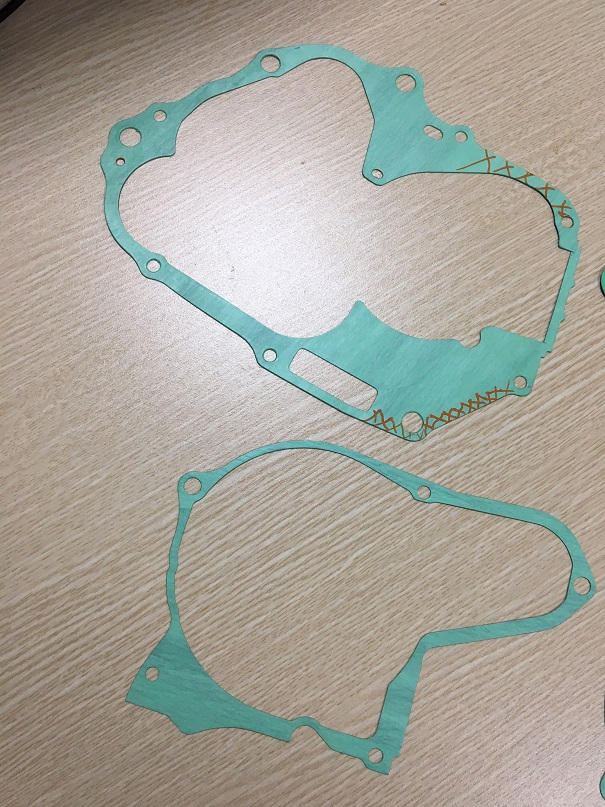type1: (119, 431, 599, 784)
type3: (92, 38, 586, 447)
